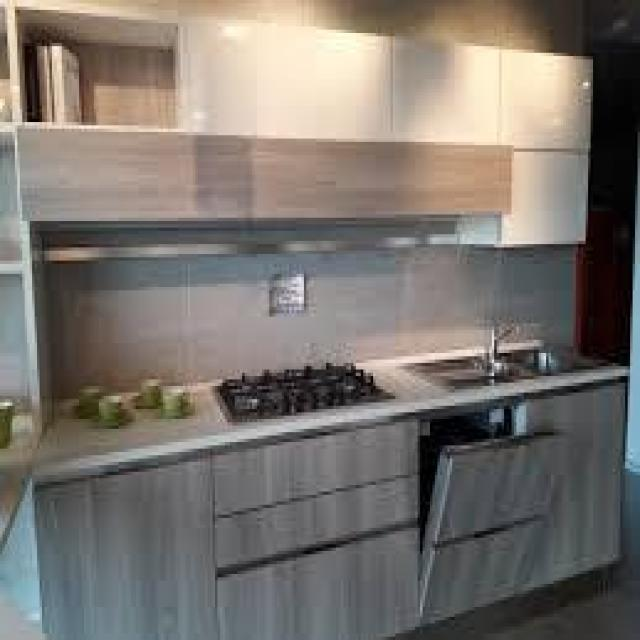dishwasher: (415, 389, 576, 614)
